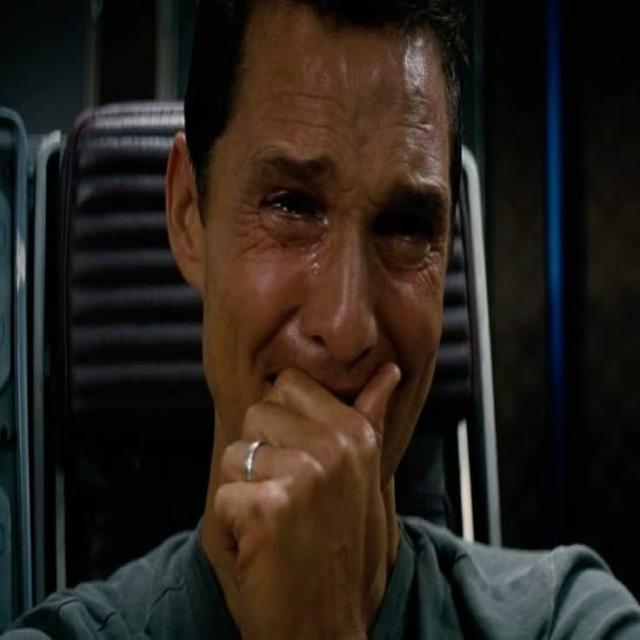sem_oculos: (179, 102, 504, 279)
